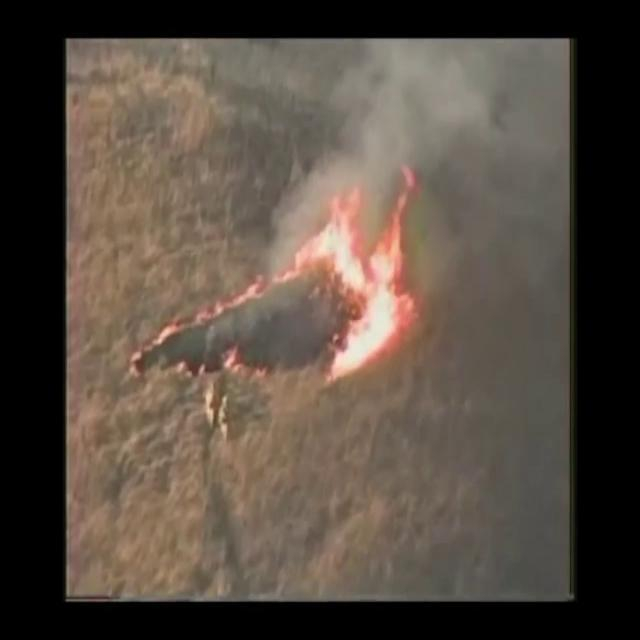Fire: (280, 173, 419, 375)
Smoke: (306, 37, 564, 210)
